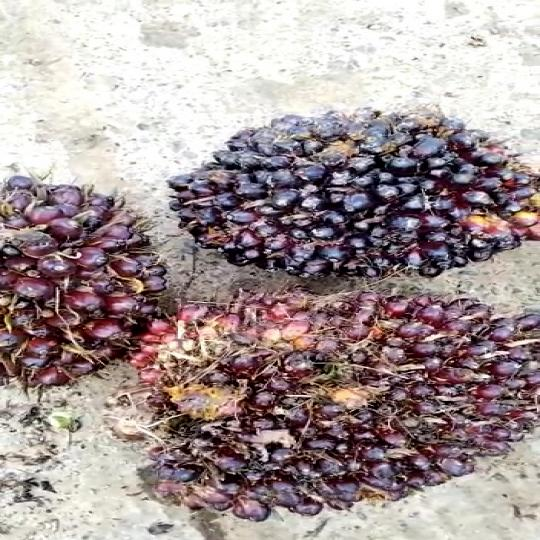kurang masak: (155, 296, 540, 528), (166, 105, 540, 291), (0, 174, 179, 388)
